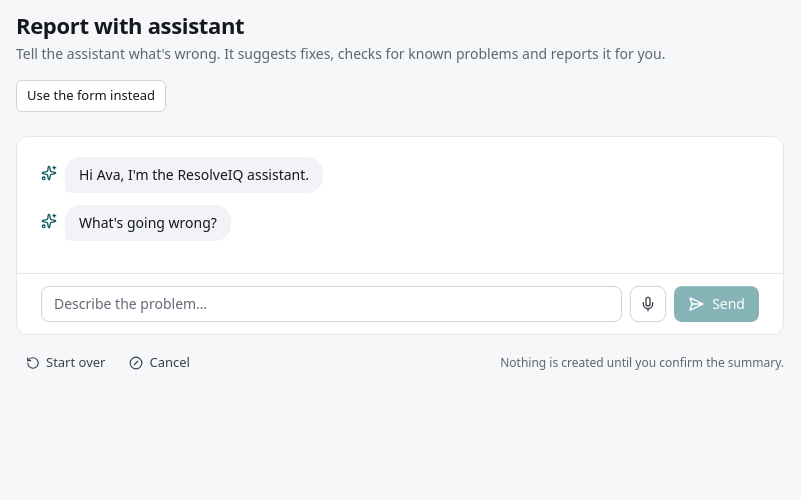
Test: Report with assistant › FE-22 start over and cancel are sent as commands; a failed turn shows the error and keeps the conversation
The width and height of the screenshot is (801, 500).
expect the text "What's going wrong?" is shown: met, box [65, 204, 231, 240]
Step 1. Click the button "Start over" → x=66, y=362, box [16, 346, 116, 378]
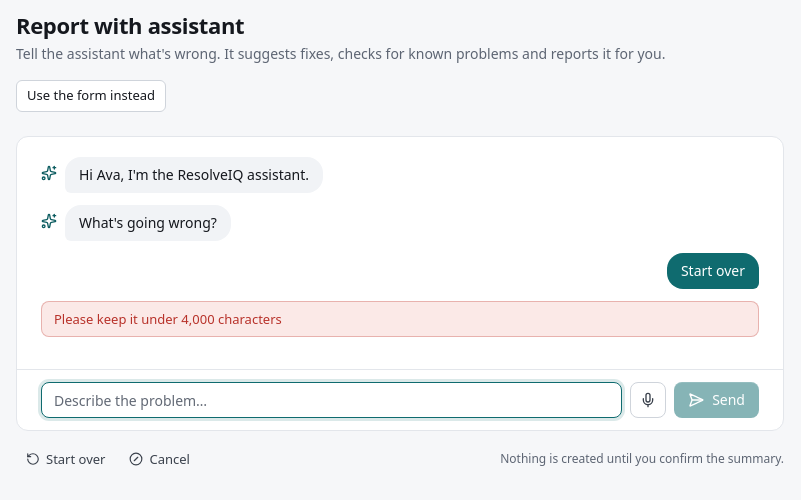
expect the field named "Your message" is enabled: met, box [41, 382, 622, 418]
expect the message "Please keep it under 4,000 characters" is shown: met, box [41, 300, 759, 337]
Step 2. Click the button "Cancel" → x=160, y=459, box [120, 443, 200, 475]
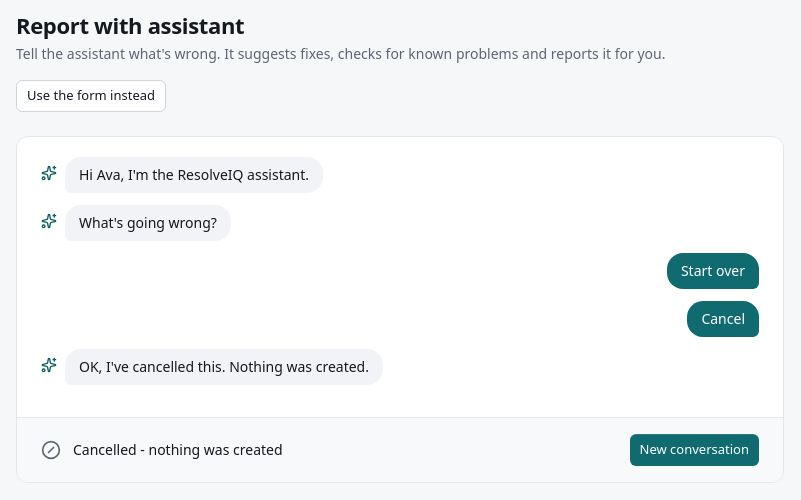
expect the text "Cancelled - nothing was created" is shown: met, box [73, 440, 283, 458]
expect the button "New conversation" is shown: met, box [630, 434, 759, 466]
